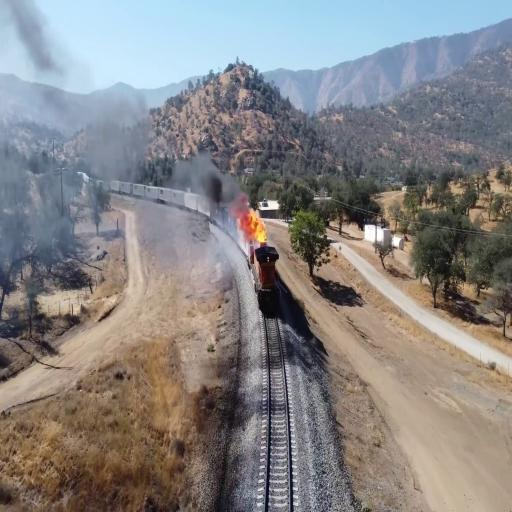fire: (237, 201, 267, 246)
smoke: (176, 145, 211, 191), (206, 173, 236, 212)
